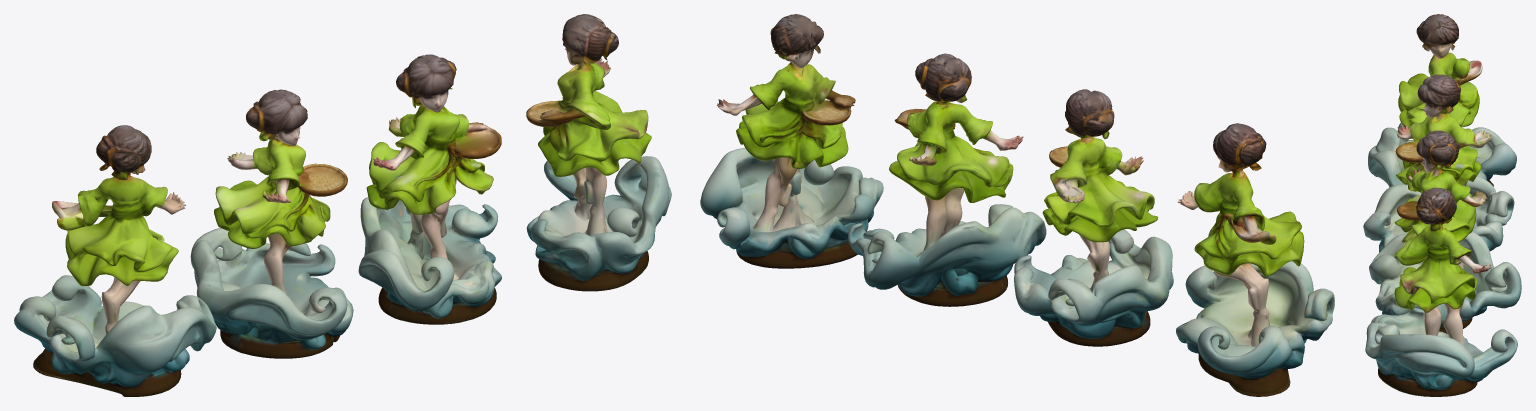
File: award-16.glb
3 views of the same model, side by side, from view 1: azimuth 30°, elevation 25°; view 2: azimuth 150°, elevation 25°; view 3: azimuth 270°, elevation 25° (orthographic). The views are drawn at different scales.
Parts seen in each view (by area): view 1: node_0; view 2: node_0; view 3: node_0.
Part boxes in pixels (x1=…): node_0: x1=14, y1=14, x2=671, y2=396; node_0: x1=700, y1=14, x2=1334, y2=396; node_0: x1=1363, y1=14, x2=1521, y2=396.
Size of the model in its own units: 1.17 by 0.4328 by 0.3307.
1 material, 1 textured.
